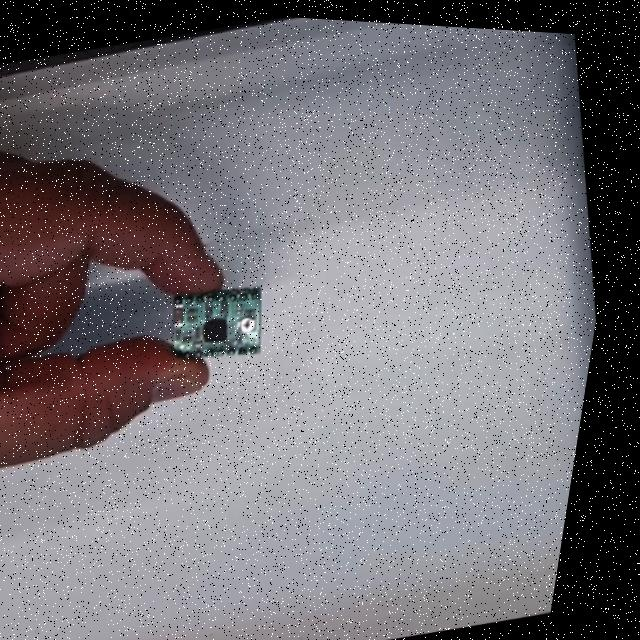Chip: (156, 273, 279, 374)
